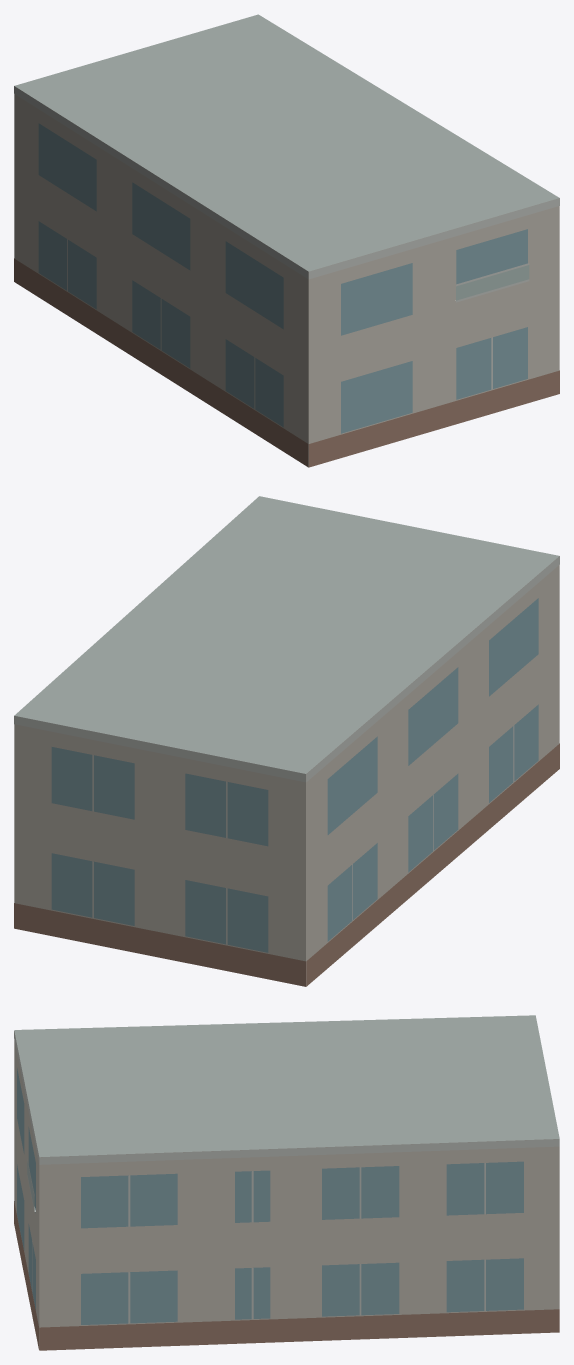
The model's file is survey-upis-32702349.glb.
The picture shows the model from 3 angles, top to bottom: view 1: azimuth 30°, elevation 25°; view 2: azimuth 150°, elevation 25°; view 3: azimuth 270°, elevation 25°; orthographic projection. The views are drawn at different scales.
Visible parts, largest first — view 1: survey-upis-32702349.tmp; view 2: survey-upis-32702349.tmp; view 3: survey-upis-32702349.tmp.
Part boxes in pixels (left/top/right/bottom): survey-upis-32702349.tmp: left=14, top=14, right=559, bottom=467; survey-upis-32702349.tmp: left=14, top=496, right=559, bottom=986; survey-upis-32702349.tmp: left=14, top=1015, right=559, bottom=1350.
Size of the model in its own units: 9.61 by 6.1 by 15.6.
